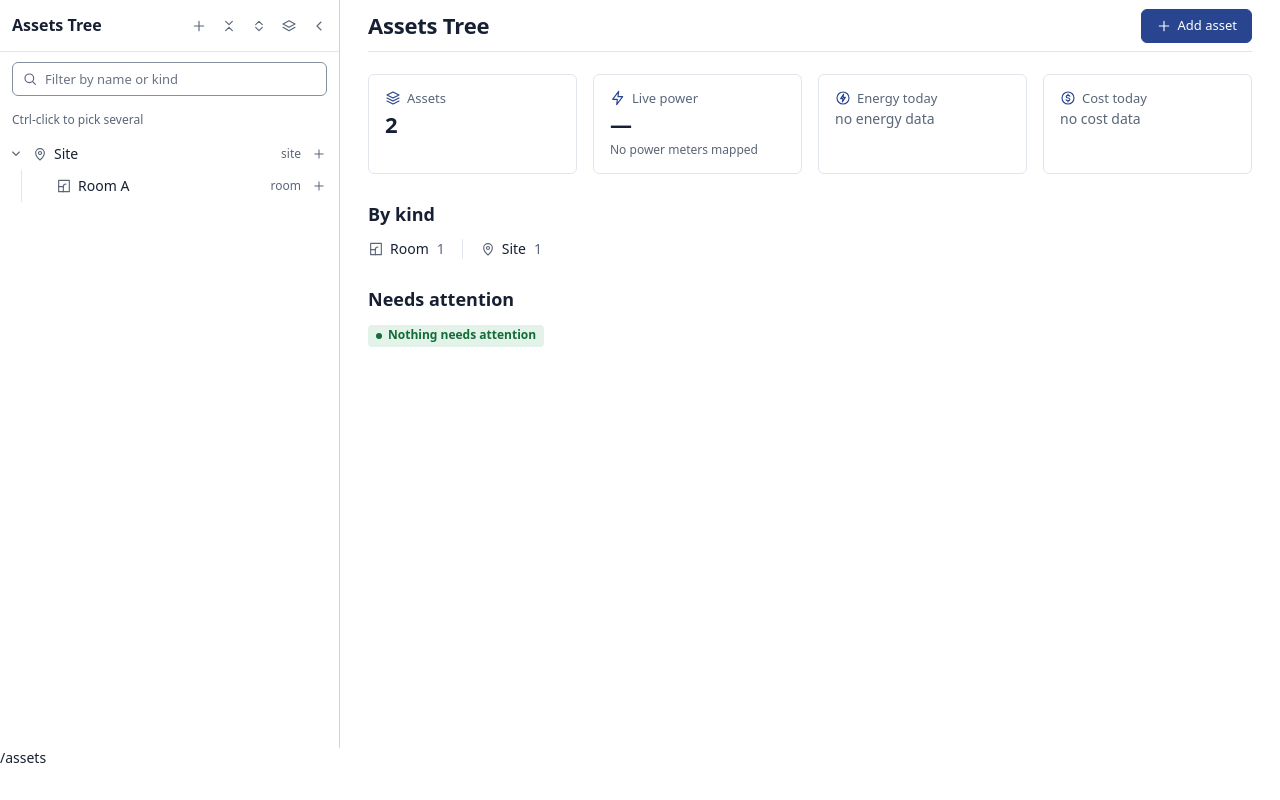
Test: AssetsPage › dialogs and the + on each branch › the + opens one dialog titled Add asset with that node as the parent, and Save posts it and closes
Click the button named "Add child of Site" at [319, 154], box [307,142,331,166]
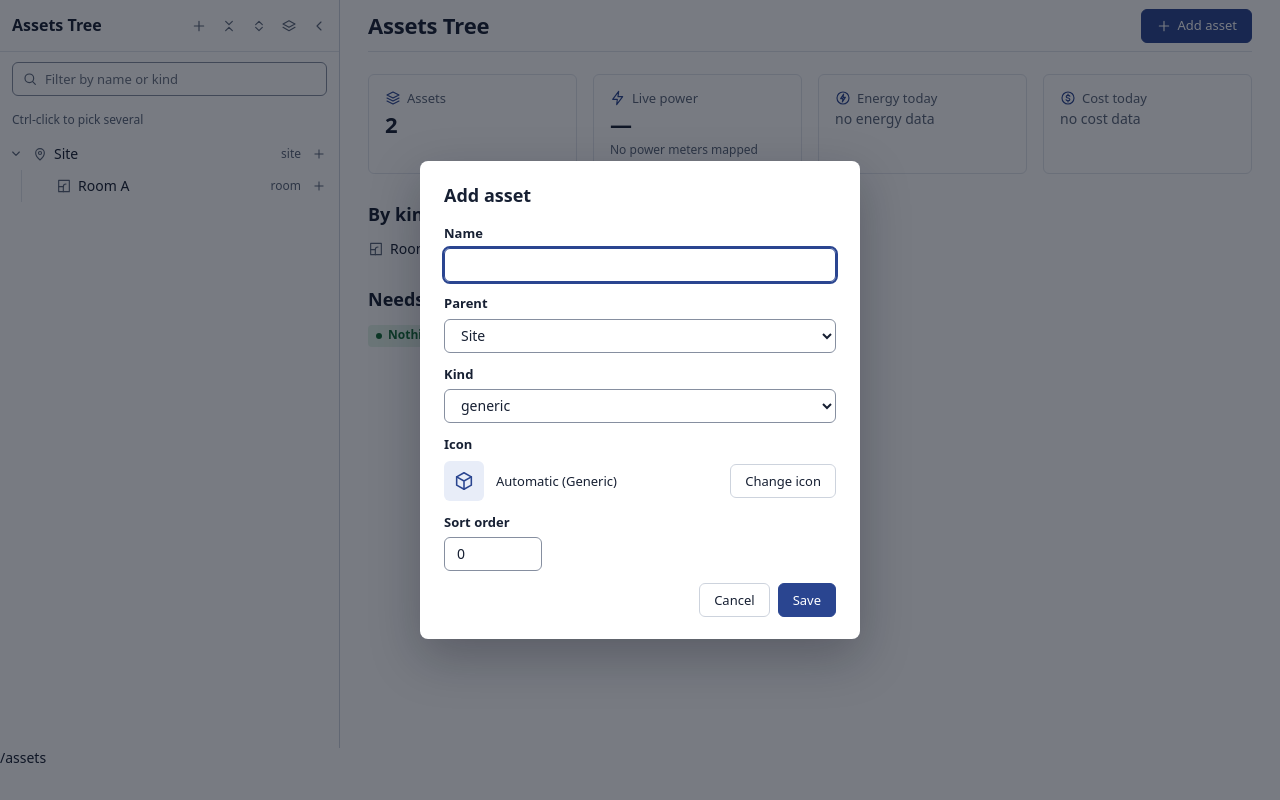
Now the number of dialogs is 1, box [420,161,860,639]
Now the dropdown labelled "Parent" shows "Site", box [444,318,836,352]
Type "Room B" into the field labelled "Name" at [640, 265], box [444,248,836,282]
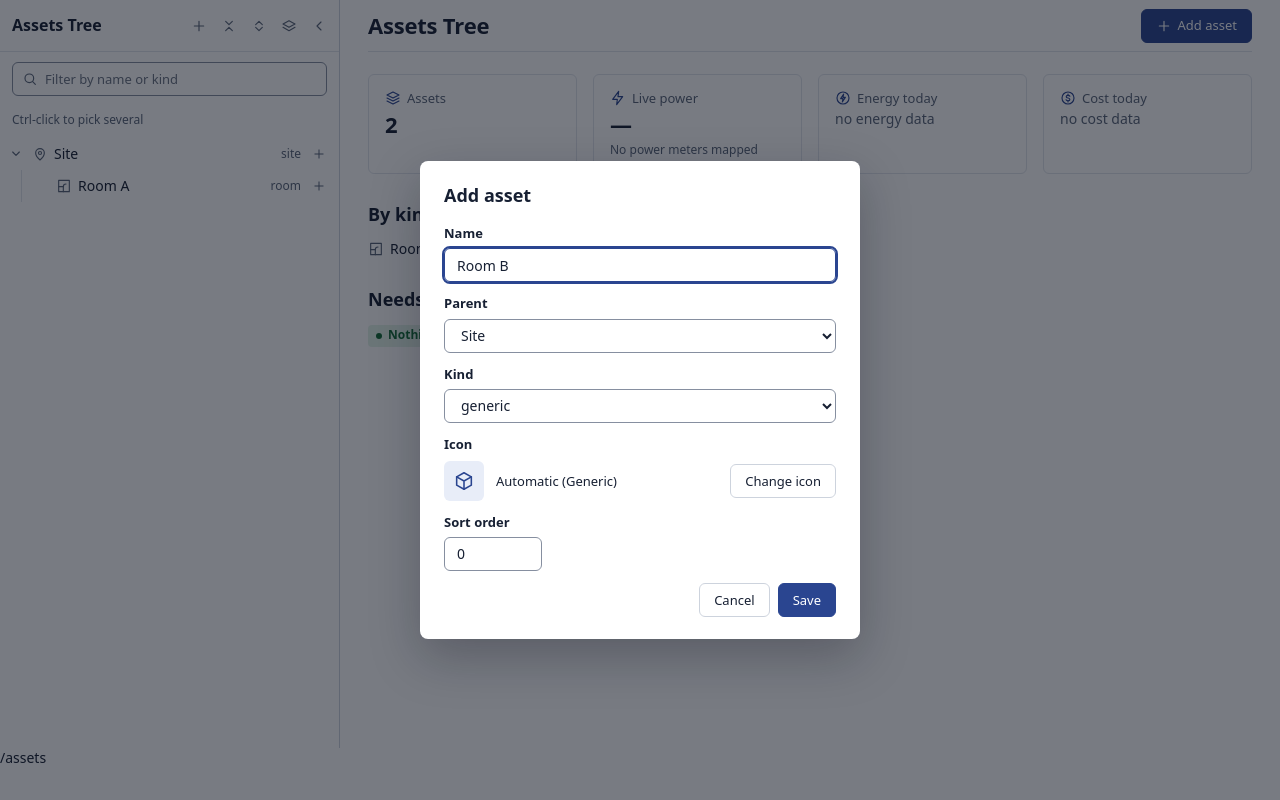
Click the button "Save" at [807, 600], box [778,583,836,617]
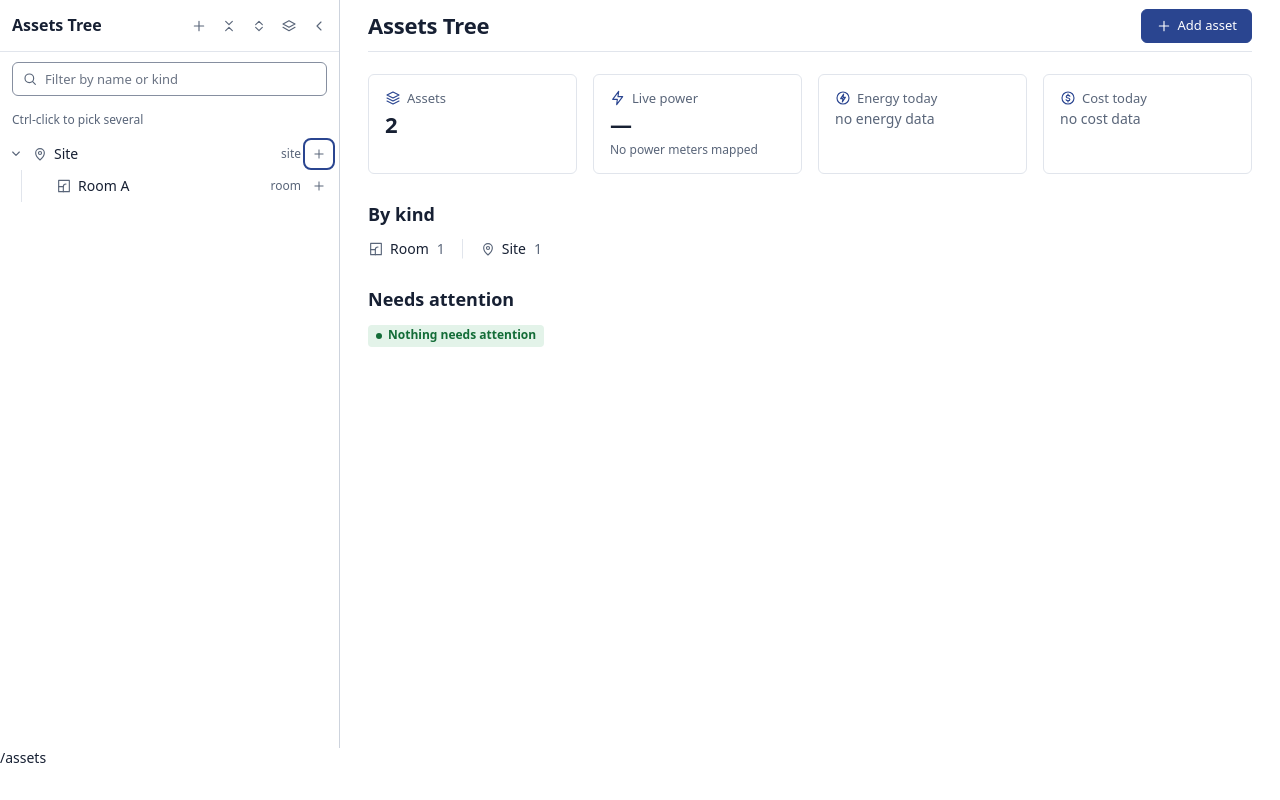
Now the dialog is gone
